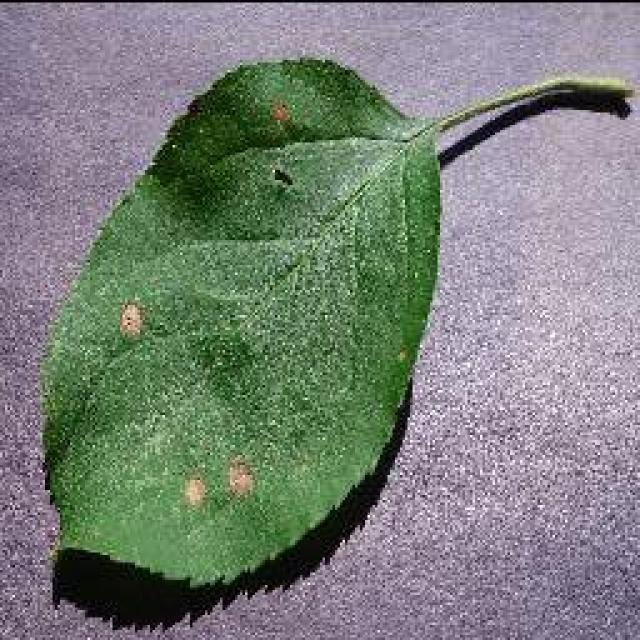Black_rot: (35, 52, 635, 628)
